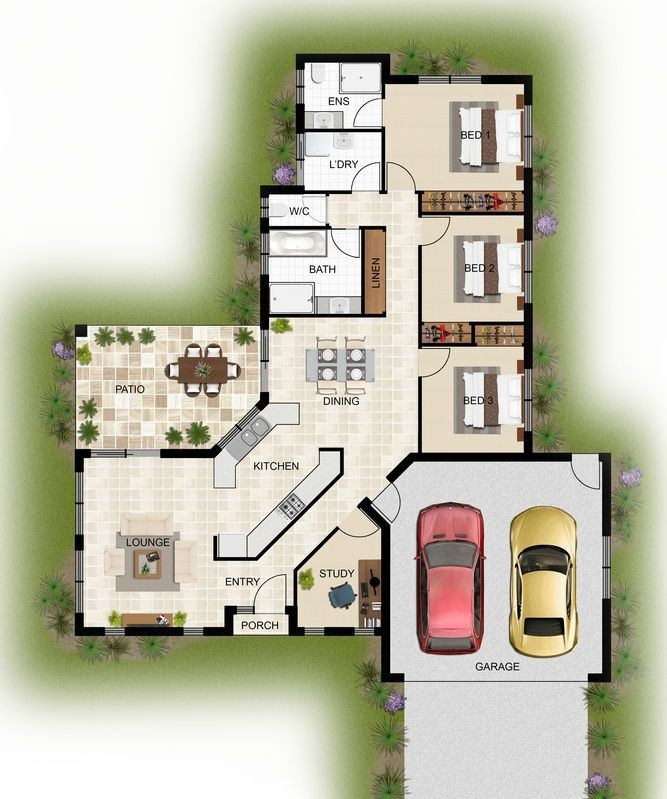door: (349, 97, 382, 128), (254, 570, 287, 599), (423, 346, 451, 380), (329, 232, 360, 261), (423, 215, 451, 244), (384, 160, 415, 186), (349, 159, 380, 185), (569, 465, 600, 491), (570, 464, 601, 490)
